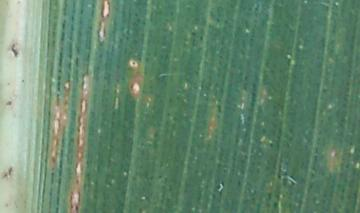tarspot: (131, 61, 136, 66)
